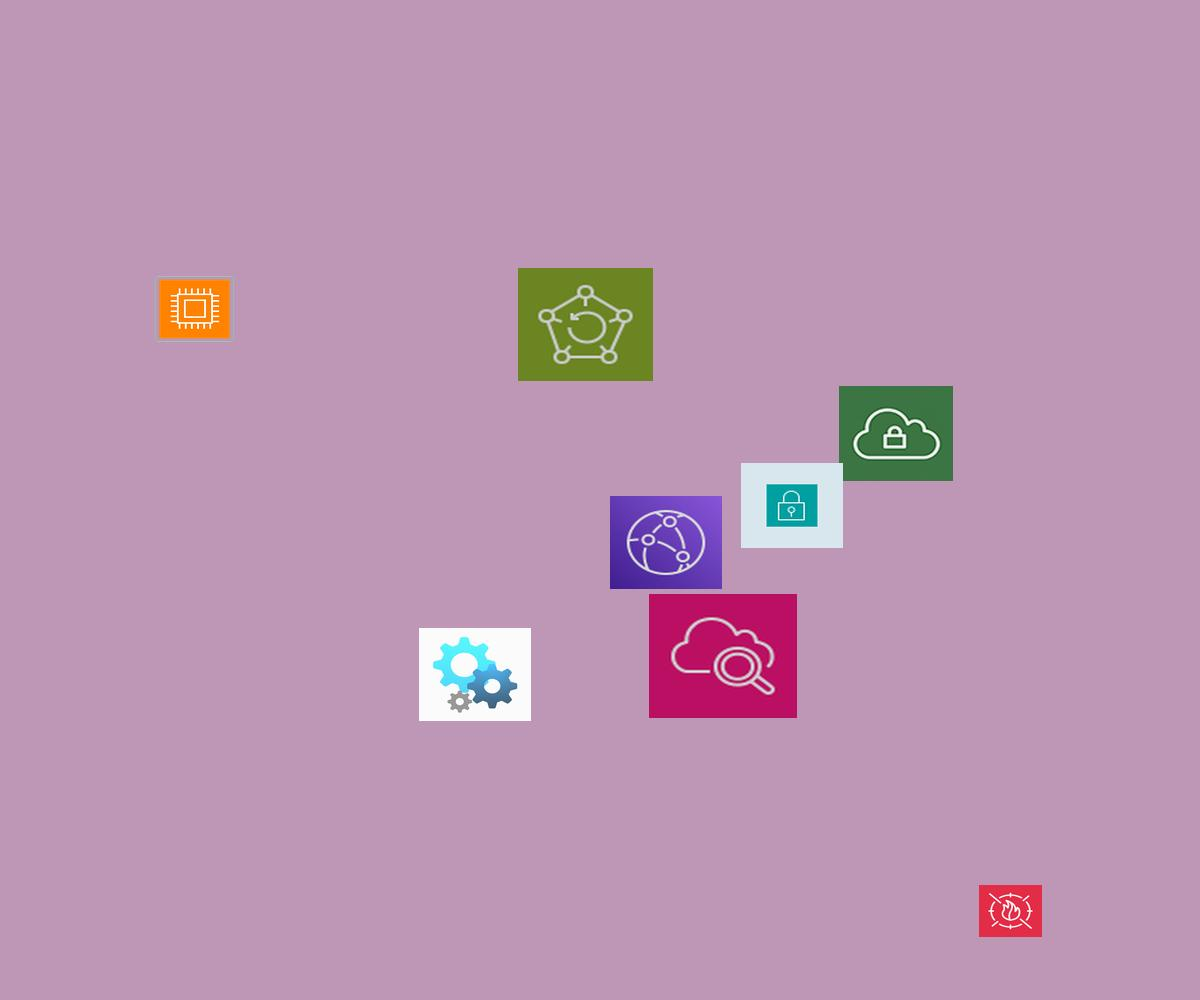AWS-Backup: (518, 268, 653, 381)
AWS-Category_Compute: (155, 276, 234, 342)
AWS-CloudFront: (610, 496, 722, 589)
AWS-CloudWatch: (649, 594, 797, 718)
AWS-Private-subnet: (741, 463, 843, 548)
AWS-Private_vpc: (839, 386, 953, 481)
AWS-WAF: (979, 885, 1042, 937)
Azure_api: (419, 628, 531, 721)
